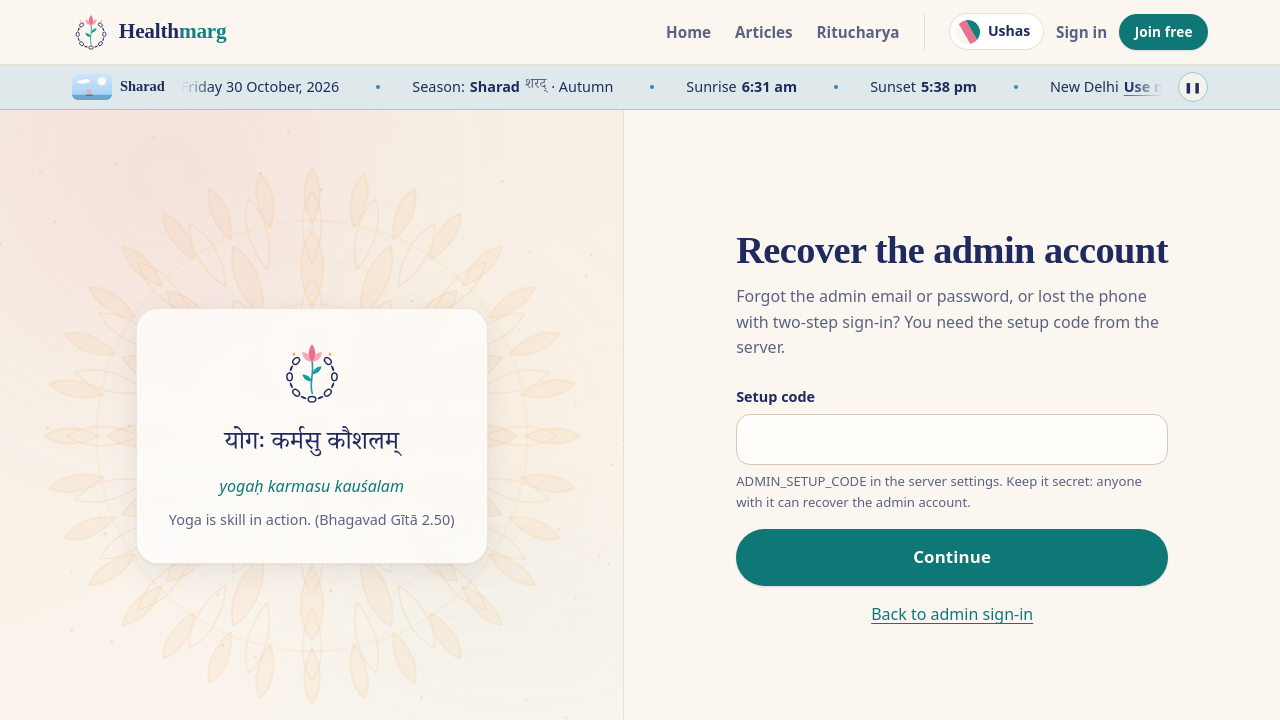
admin recovery › says why when the code can’t be used (1)
Type "some-code-1234567890" into the field labelled "Setup code" at (952, 439), box top-left (736, 414), bottom-right (1168, 465)
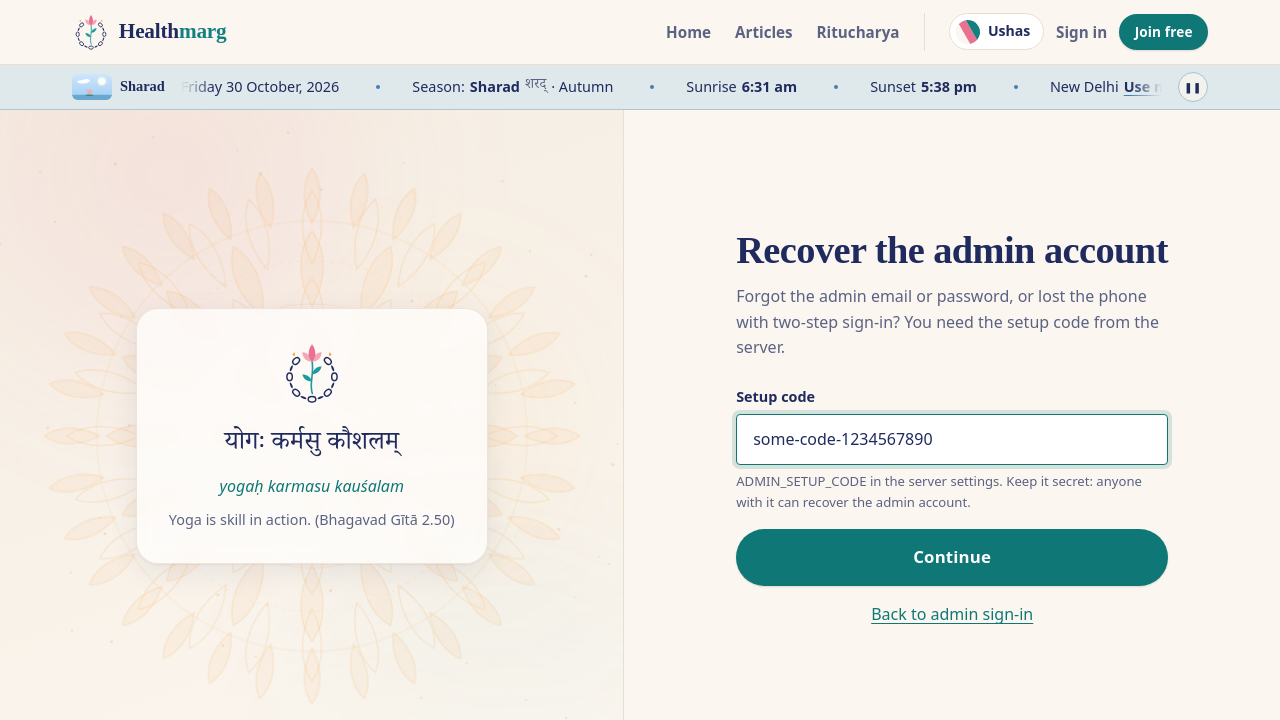
Click the button "Continue" at (952, 558), box top-left (736, 529), bottom-right (1168, 586)
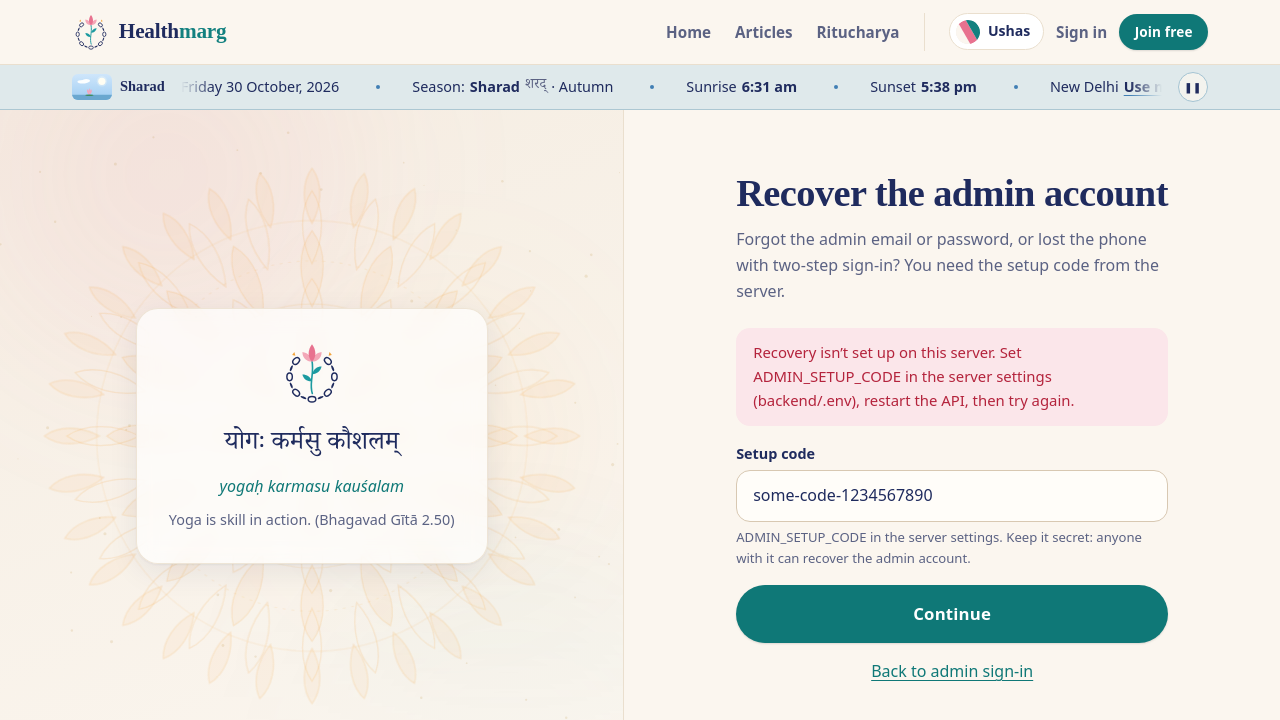
Result: the text "Recovery isn’t set up on this server" is shown at top-left (753, 342), bottom-right (1074, 410)
